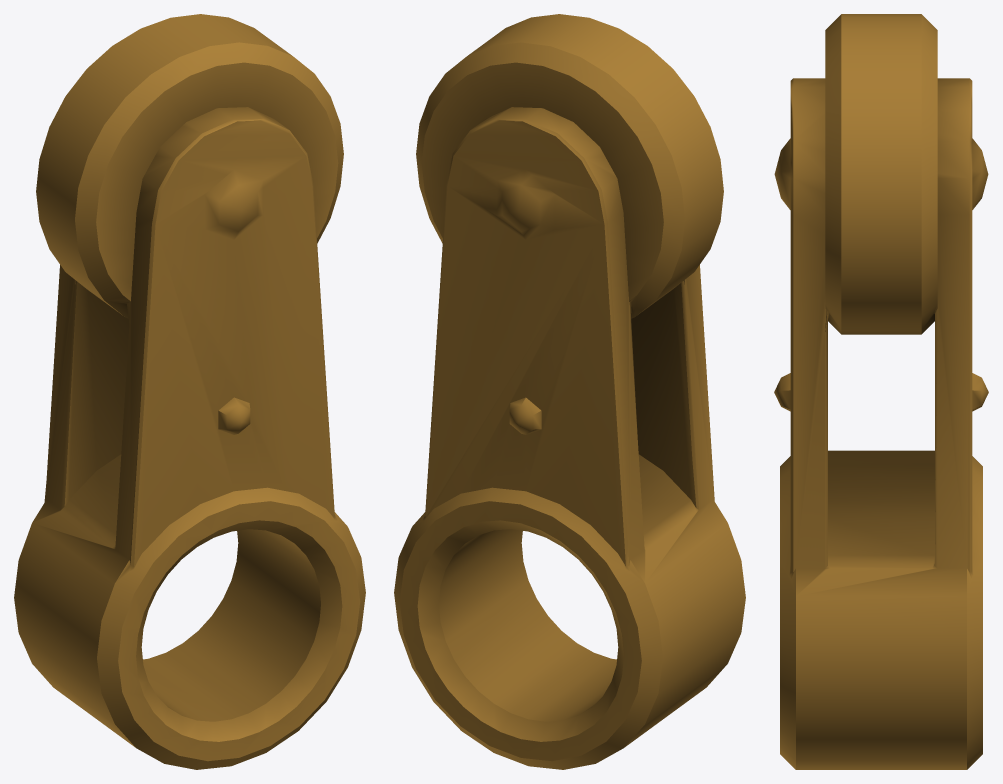
The model's file is follower_roller.glb.
The picture shows the model from 3 angles, left to right: view 1: azimuth 30°, elevation 25°; view 2: azimuth 150°, elevation 25°; view 3: azimuth 270°, elevation 25°; orthographic projection. The views are drawn at different scales.
Visible parts, largest first — view 1: Follower_Roller; view 2: Follower_Roller; view 3: Follower_Roller.
Part boxes in pixels (left/top/right/bottom): Follower_Roller: left=14, top=14, right=365, bottom=769; Follower_Roller: left=394, top=14, right=745, bottom=769; Follower_Roller: left=774, top=14, right=988, bottom=769.
Size of the model in its own units: 0.012 by 0.03 by 0.00804.
